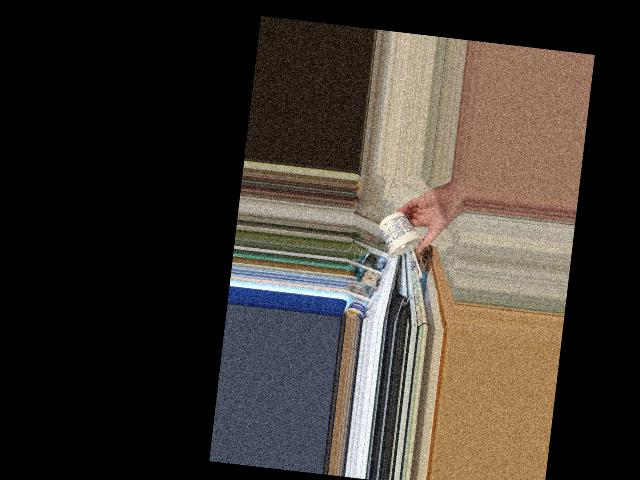cotage: (381, 216, 421, 262)
